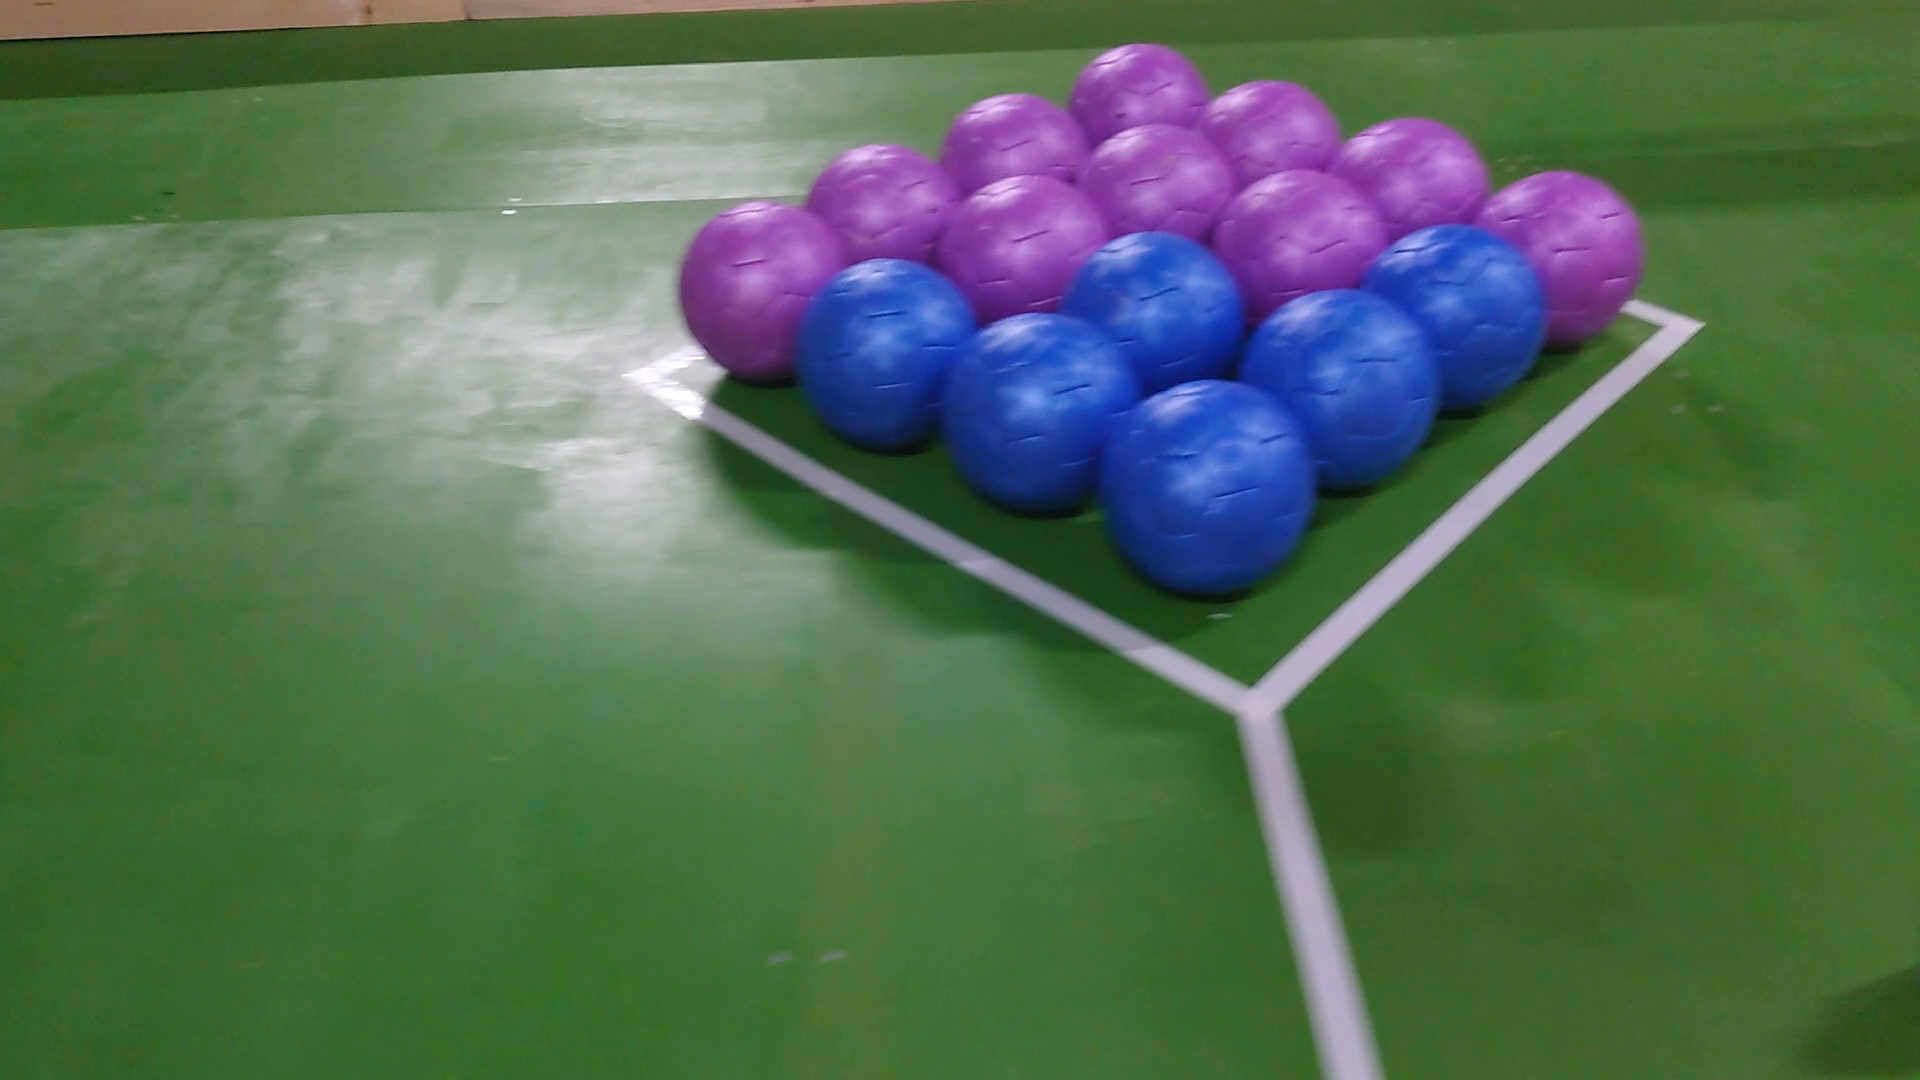blue: (1106, 378, 1312, 597), (1247, 284, 1437, 487), (944, 307, 1126, 513), (1356, 225, 1544, 414), (794, 258, 973, 451), (1064, 228, 1241, 369)
purple: (1480, 170, 1643, 352), (676, 203, 839, 382), (1218, 164, 1391, 301), (938, 173, 1110, 301), (1332, 117, 1493, 241), (1075, 124, 1237, 232), (807, 140, 953, 258), (934, 95, 1095, 186), (1068, 46, 1208, 146), (1201, 78, 1338, 166)
